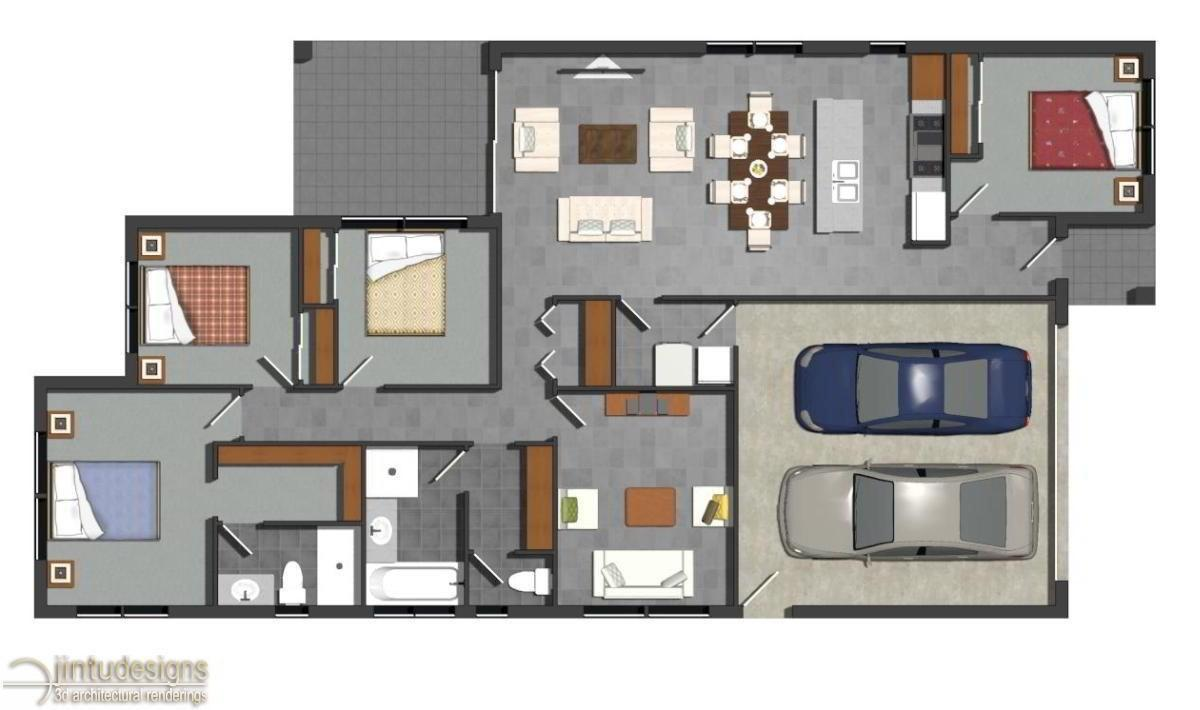room: (494, 48, 948, 296), (734, 297, 1062, 613), (555, 385, 735, 612), (43, 382, 214, 608), (947, 46, 1146, 221), (335, 220, 499, 388), (130, 223, 301, 384), (214, 442, 362, 610), (364, 442, 470, 610), (468, 443, 556, 611)
